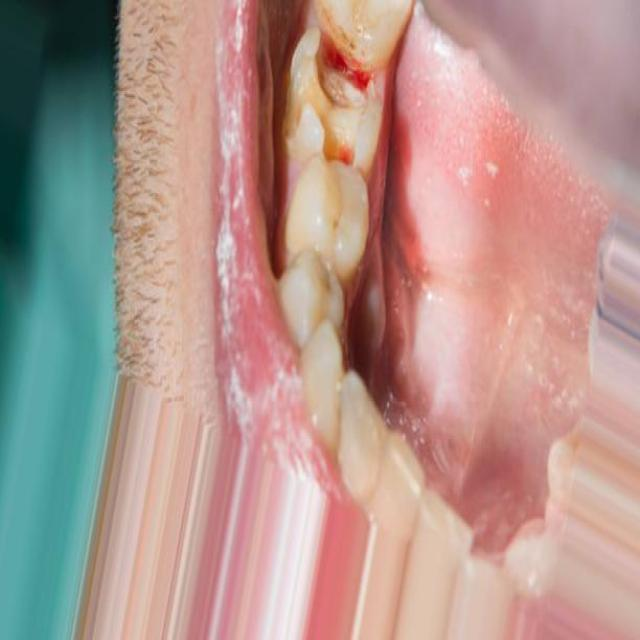caries: (306, 12, 378, 114), (309, 114, 365, 178)
